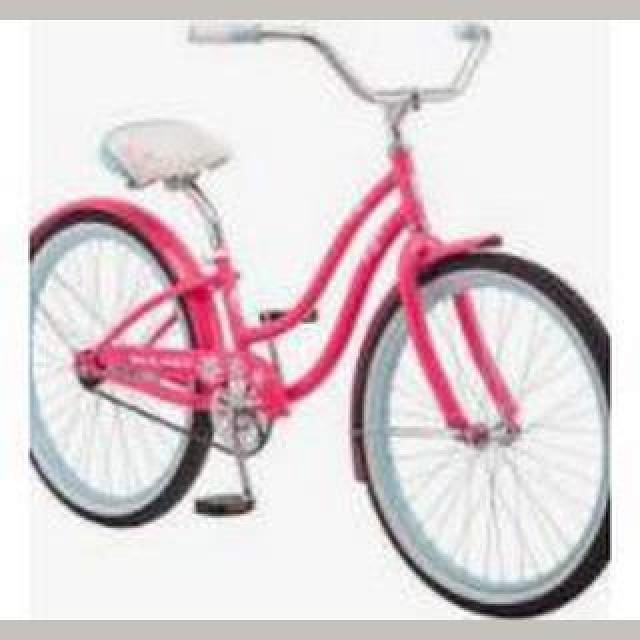Person: (30, 20, 610, 616)
